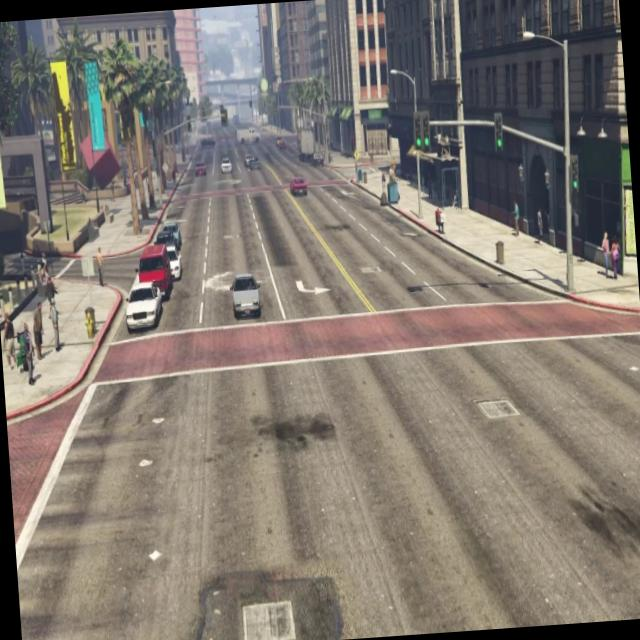Green-Signal: (405, 91, 439, 180), (488, 101, 514, 174), (562, 145, 588, 207)
